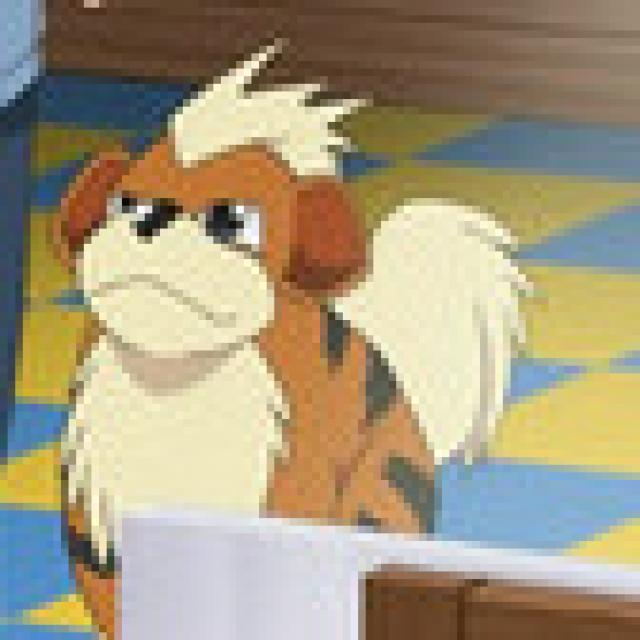Growlithe: (59, 86, 454, 548)
